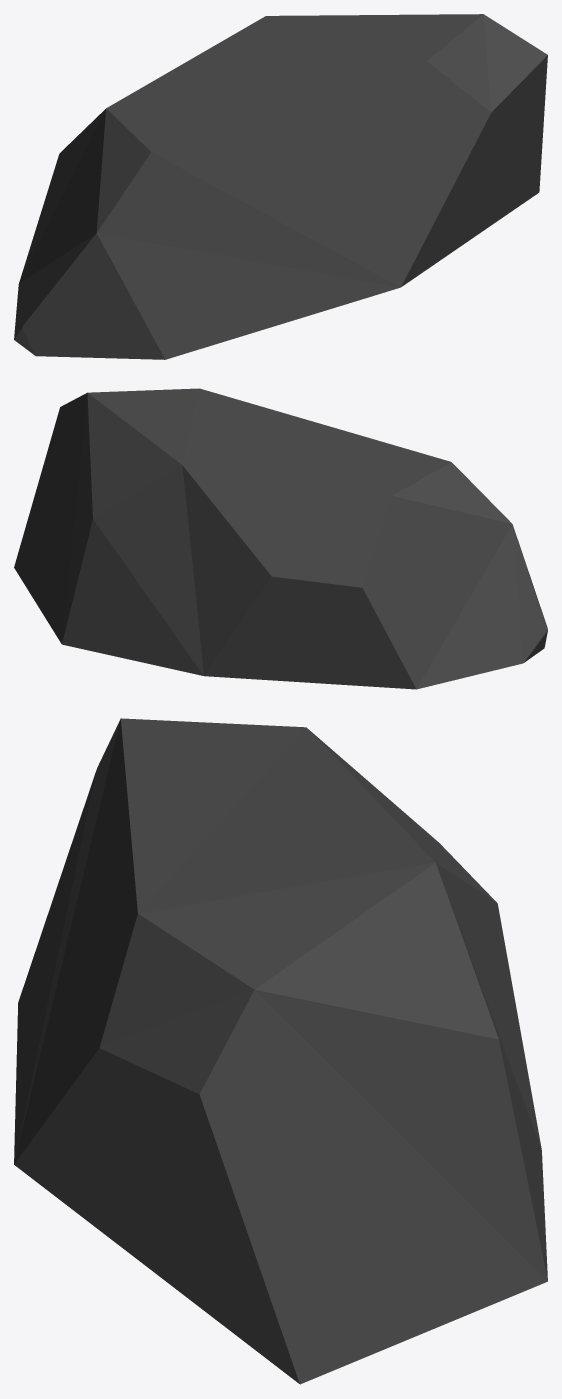
The model's file is rock_5.FBX.
3 views of the same model, one above another, from view 1: azimuth 30°, elevation 25°; view 2: azimuth 150°, elevation 25°; view 3: azimuth 270°, elevation 25° (orthographic). The views are drawn at different scales.
Parts seen in each view (by area): view 1: rock_5; view 2: rock_5; view 3: rock_5.
Part boxes in pixels (x1=…): rock_5: x1=14, y1=14, x2=547, y2=359; rock_5: x1=14, y1=388, x2=547, y2=689; rock_5: x1=14, y1=718, x2=547, y2=1384.
Size of the model in its own units: 1.01 by 0.3578 by 0.5059.
Materials: 1 (1 with a texture image).
